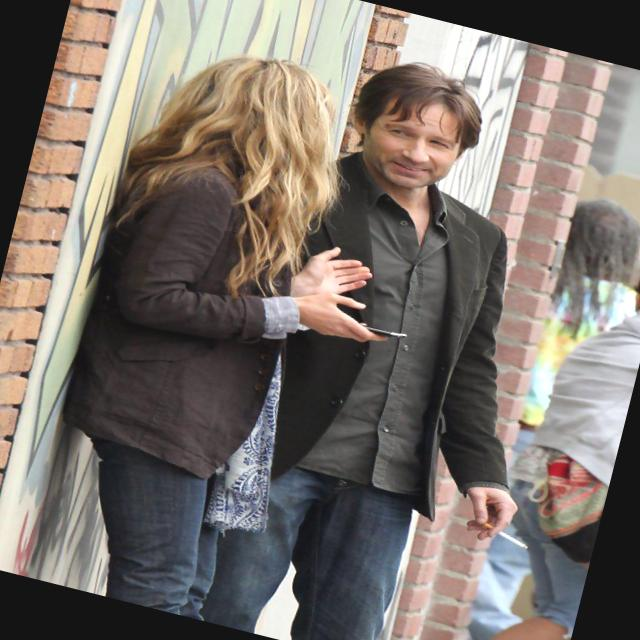smoke: (450, 500, 561, 571)
